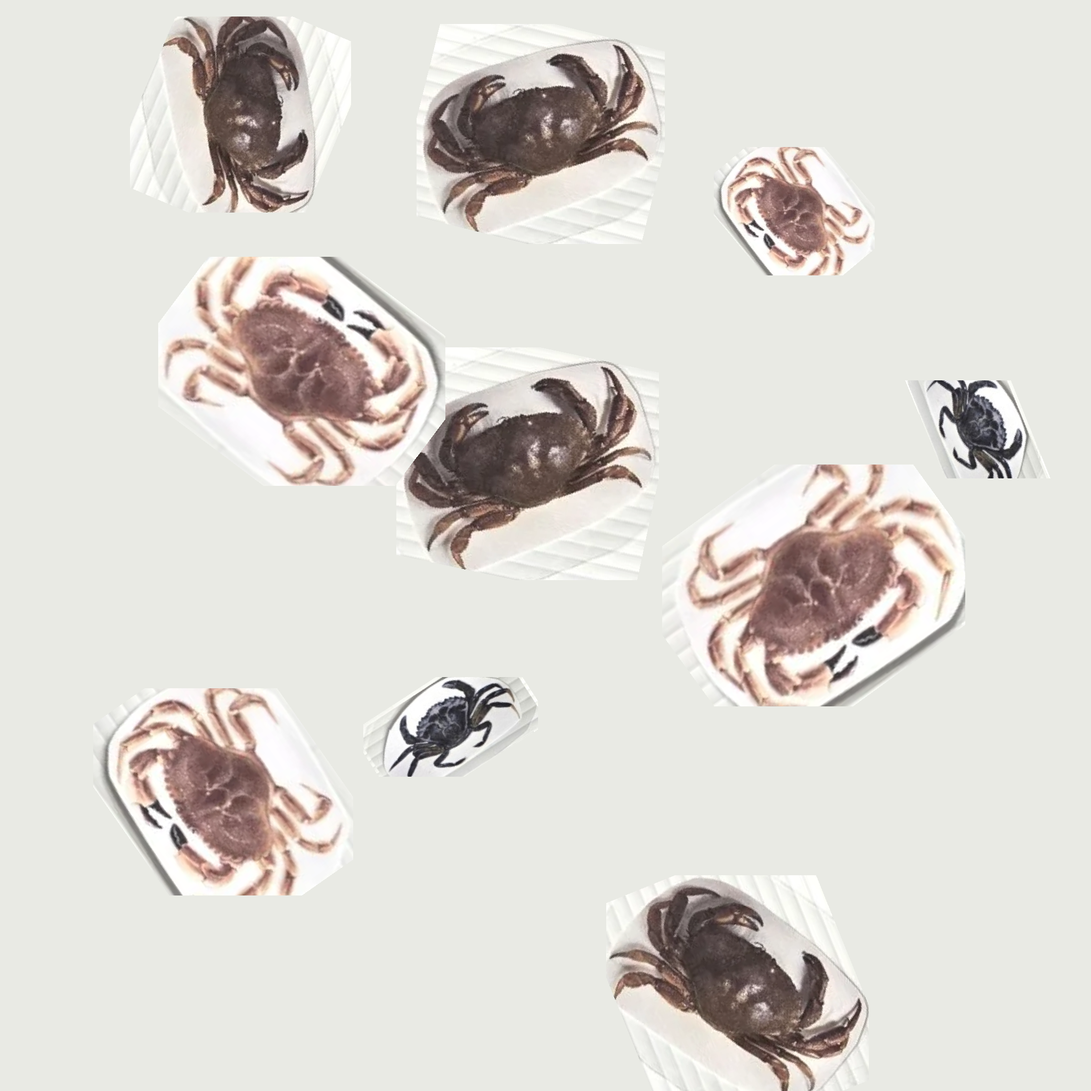evil: (393, 676, 533, 768), (931, 384, 1043, 477)
normal: (684, 443, 965, 729), (67, 673, 379, 909), (426, 36, 668, 250), (620, 906, 878, 1091), (404, 379, 639, 575), (182, 269, 404, 468), (143, 25, 342, 236), (724, 143, 861, 266)
